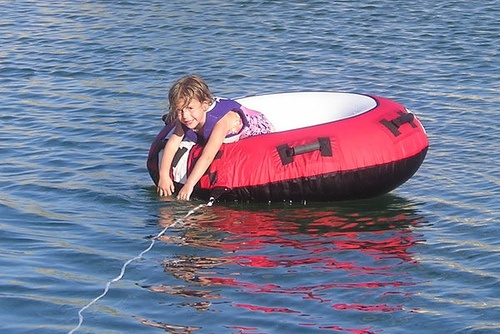head: (168, 76, 212, 129)
person: (146, 74, 280, 201)
